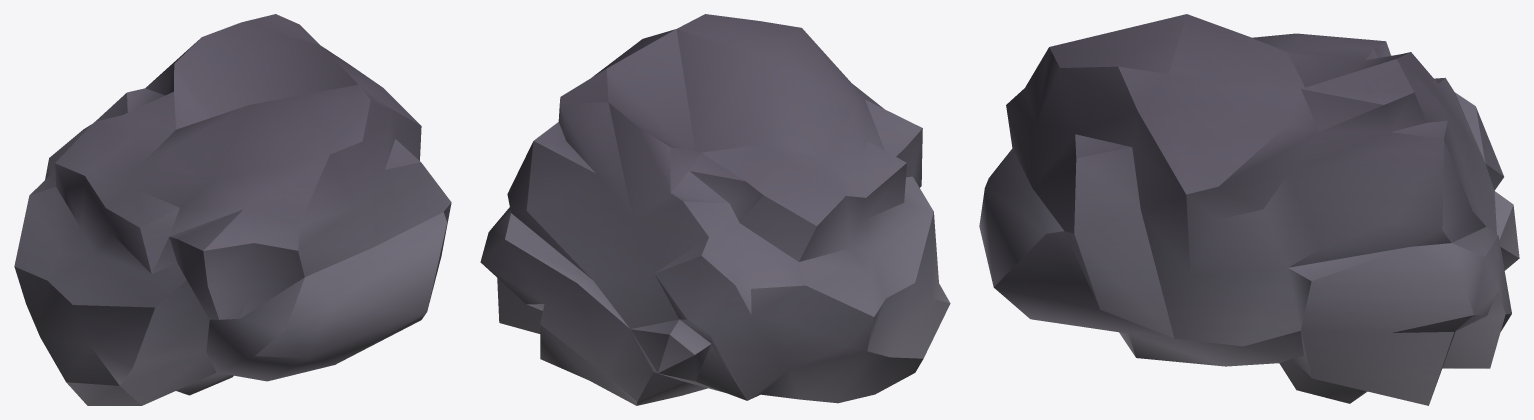
Rendered from rock.001.fbx.
3 renders of one model, left to right at view 1: azimuth 30°, elevation 25°; view 2: azimuth 150°, elevation 25°; view 3: azimuth 270°, elevation 25°, orthographic. The views are drawn at different scales.
Visible parts, largest first — view 1: rock.001; view 2: rock.001; view 3: rock.001.
Part boxes in pixels (x1,y1,x2,y2): rock.001: (14,14,451,405); rock.001: (480,14,950,405); rock.001: (979,14,1519,405).
Size of the model in its own units: 493 by 382 by 527.
